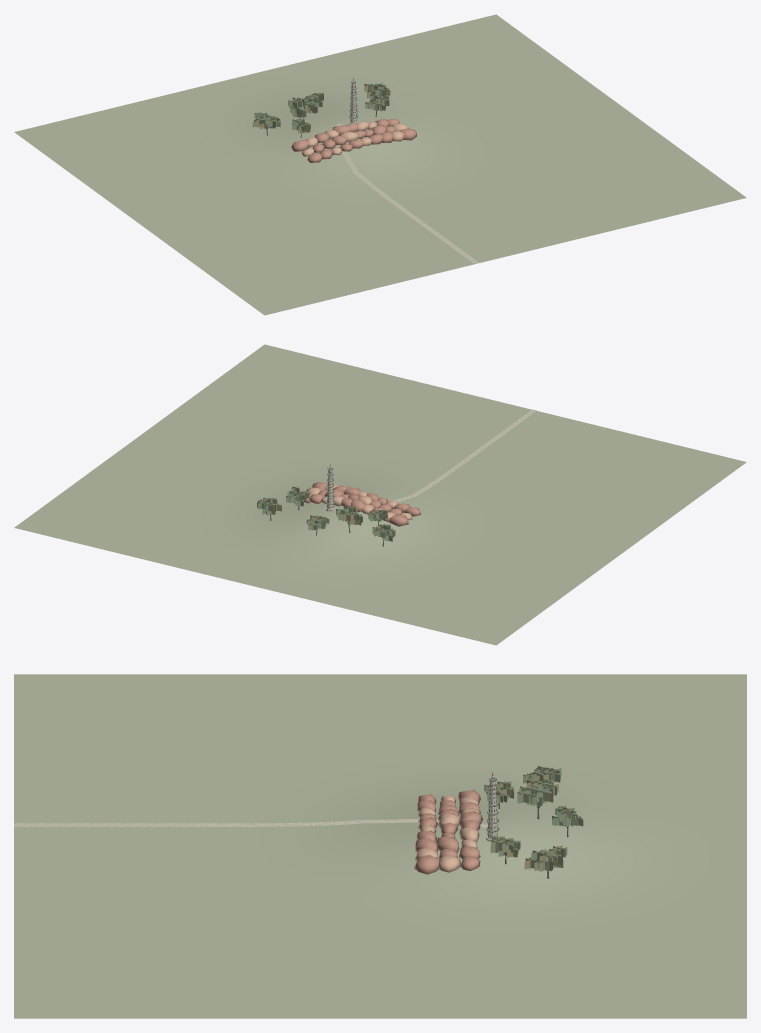
The model's file is precious-stone.glb.
3 renders of one model, top to bottom at view 1: azimuth 30°, elevation 25°; view 2: azimuth 150°, elevation 25°; view 3: azimuth 270°, elevation 25°, orthographic. The views are drawn at different scales.
Parts seen in each view (by area): view 1: earth, redstone, redstoneedge, crown0, crown2, crown1, stone; view 2: earth, redstone, crown1, crown0, crown2, redstoneedge, stone; view 3: earth, redstone, crown1, crown0, redstoneedge, crown2, stone, stone2.
Boxes of the visible parts, box(x1,y1,x2,y2) form: earth: box(14, 14, 746, 315); redstone: box(291, 119, 416, 163); redstoneedge: box(301, 121, 408, 156); crown0: box(256, 83, 389, 131); crown2: box(255, 84, 390, 133); crown1: box(252, 84, 388, 132); stone: box(337, 121, 478, 263); earth: box(14, 344, 746, 645); redstone: box(304, 482, 420, 526); crown1: box(260, 486, 392, 541); crown0: box(257, 487, 393, 539); crown2: box(258, 487, 395, 539); redstoneedge: box(306, 485, 412, 521); stone: box(326, 409, 535, 511); earth: box(14, 674, 746, 1018); redstone: box(414, 790, 482, 874); crown1: box(487, 768, 583, 871); crown0: box(484, 767, 581, 870); redstoneedge: box(415, 795, 479, 872); crown2: box(486, 766, 582, 871); stone: box(14, 819, 500, 841); stone2: box(14, 819, 487, 827).
Bounding box in the file's own units: 250 × 28.17 × 225.
